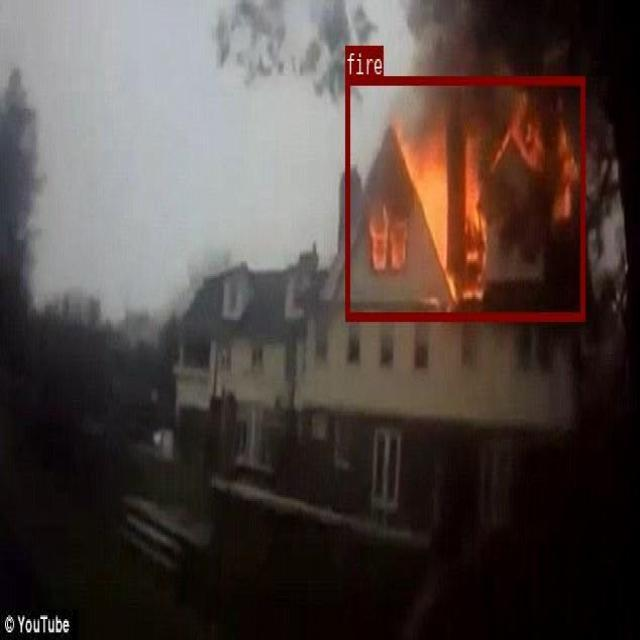fire: (346, 74, 585, 319)
